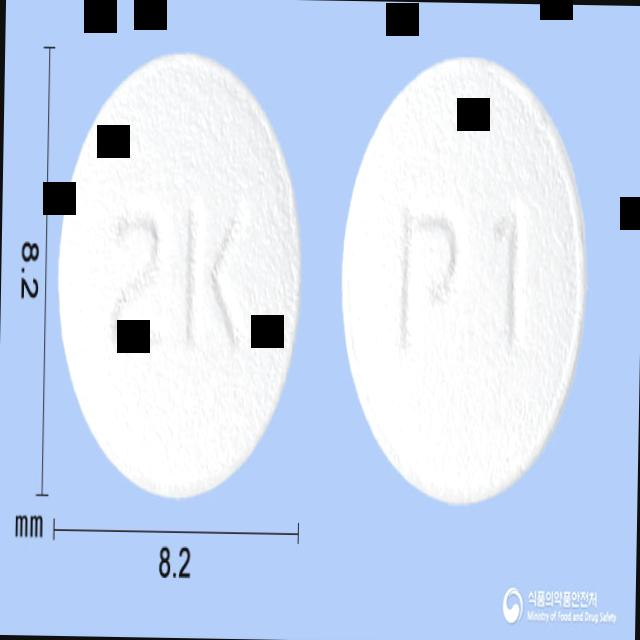Letroxin: (55, 47, 308, 504), (336, 59, 590, 508)
